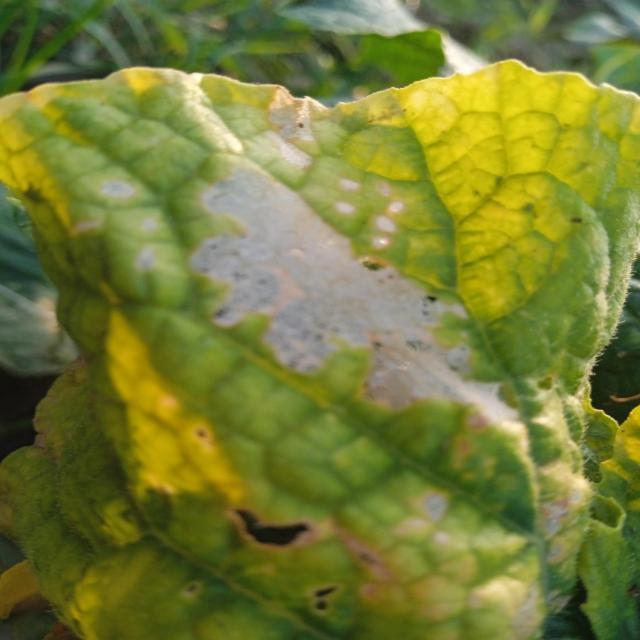cucumber_anthracnose: (24, 92, 636, 620)
